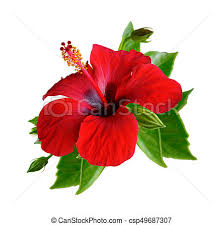hybiscus: (36, 41, 182, 166)
